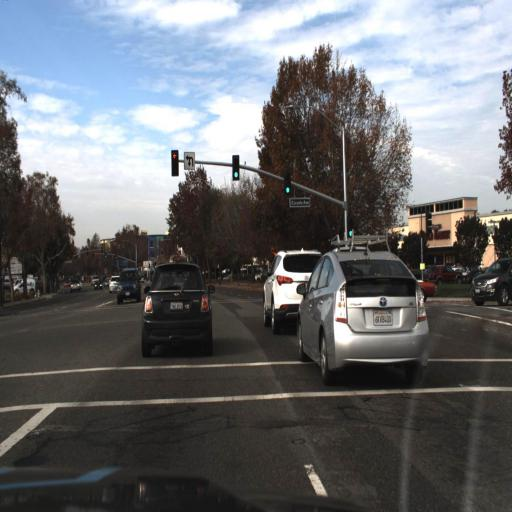car: (292, 240, 431, 380), (135, 247, 219, 378), (262, 241, 317, 333), (464, 254, 511, 312), (114, 258, 145, 306), (6, 270, 38, 306), (420, 259, 462, 285), (417, 267, 441, 310), (14, 271, 43, 302), (68, 273, 82, 295), (106, 274, 120, 295), (90, 275, 104, 290)
trafficLight-Green: (280, 165, 296, 203), (230, 146, 244, 189), (282, 169, 292, 198), (345, 218, 354, 243)
trafficLight-RedLeft: (168, 143, 182, 183)
